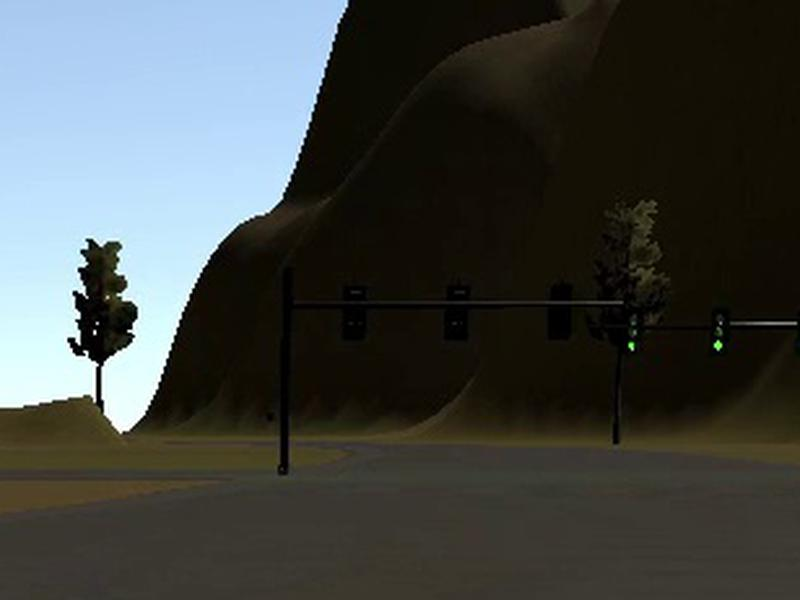Green: (710, 308, 730, 354), (624, 309, 642, 353)
